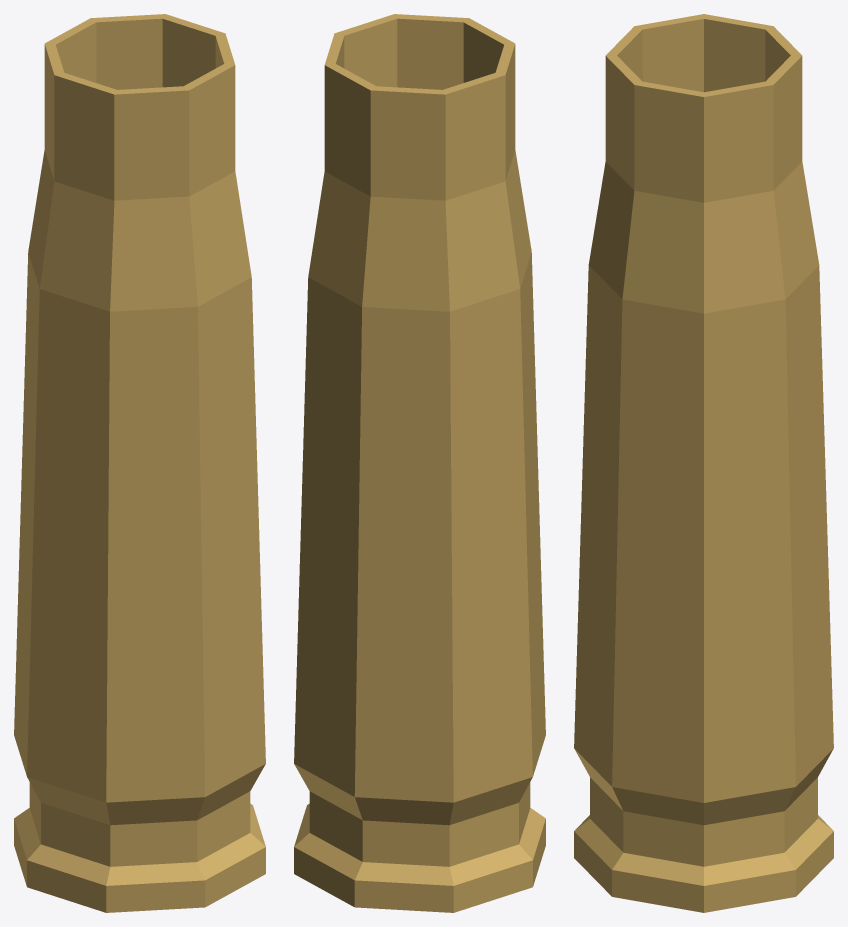
The model's file is case_762x39.glb.
3 renders of one model, left to right at view 1: azimuth 30°, elevation 25°; view 2: azimuth 150°, elevation 25°; view 3: azimuth 270°, elevation 25°, orthographic.
Parts seen in each view (by area): view 1: case_762x39; view 2: case_762x39; view 3: case_762x39.
Part boxes in pixels (x1,y1,x2,y2): case_762x39: (14,14,265,912); case_762x39: (294,14,545,912); case_762x39: (574,14,833,912).
Bounding box in the file's own units: 0.0114 × 0.0387 × 0.0114.
